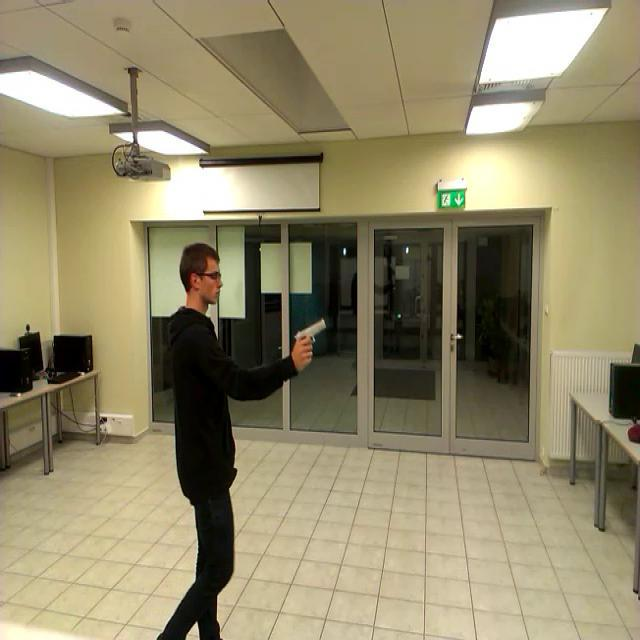Gun: (293, 318, 326, 358)
